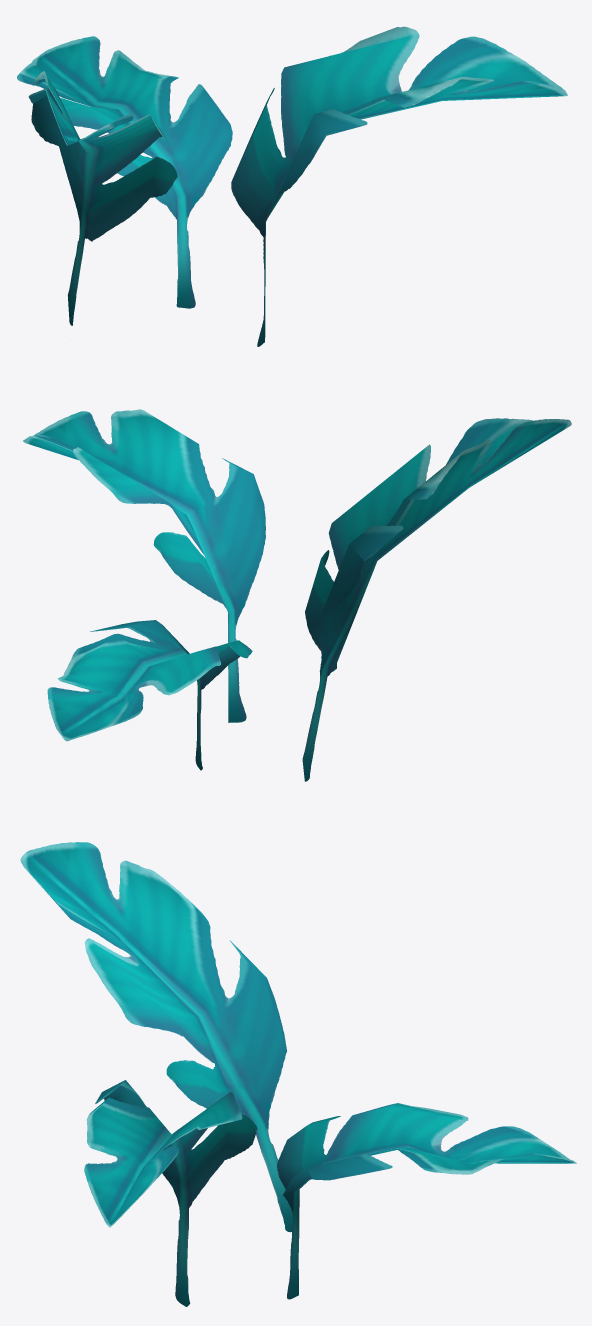
The model's file is Snake_plant_01.fbx.
3 renders of one model, top to bottom at view 1: azimuth 30°, elevation 25°; view 2: azimuth 150°, elevation 25°; view 3: azimuth 270°, elevation 25°, orthographic. The views are drawn at different scales.
Parts seen in each view (by area): view 1: Snake_plant_01; view 2: Snake_plant_01; view 3: Snake_plant_01.
Boxes of the visible parts, <box> form: Snake_plant_01: <box>17,26,567,346</box>; Snake_plant_01: <box>23,409,571,781</box>; Snake_plant_01: <box>20,842,576,1306</box>.
Size of the model in its own units: 215 by 138 by 197.
Materials: 1 (1 with a texture image).
